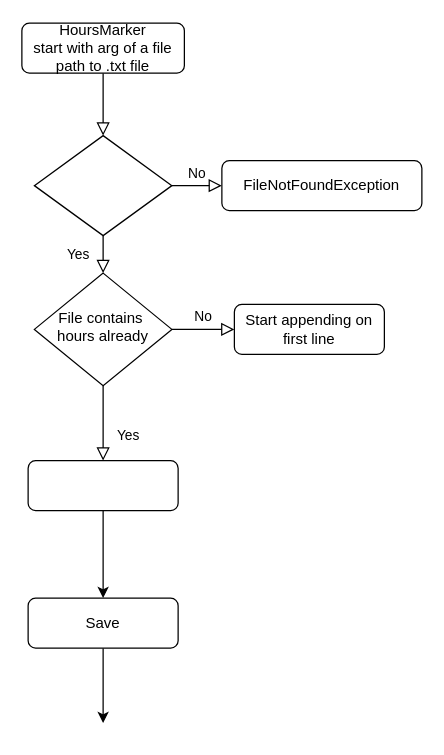
The diagram is 444 pixels wide and 755 high, and some of its shapes have lost their labels. The shapes that lost their labels are listed below. From the top down, each one's centre as x and y in pixels, then its label:
At (102,185): "File exists".
At (102,485): "Append hours on last line".
